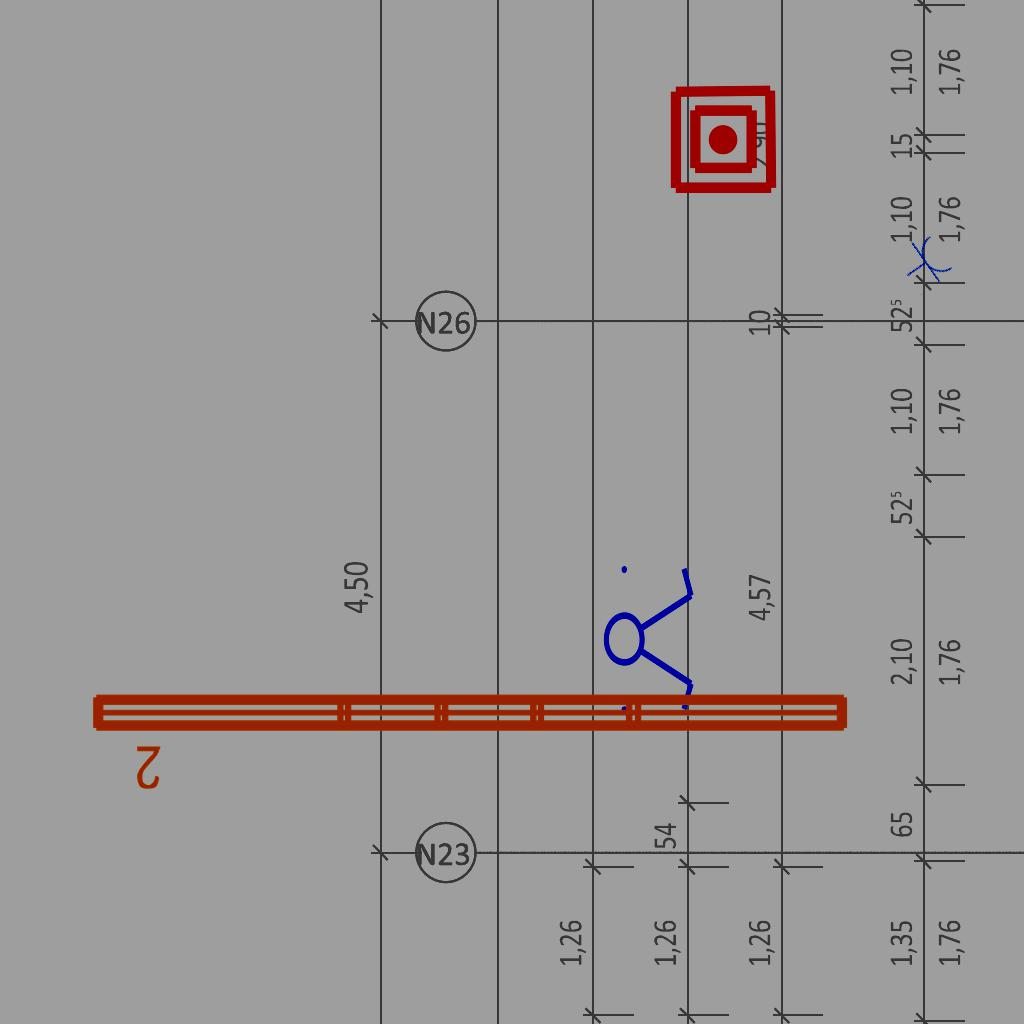Ambulanz_Pendelleuchte_LED: (84, 682, 858, 794)
NAM-Nichtautomatischer_Melder: (667, 83, 780, 196)
Schukosteckdose_einfach: (893, 230, 957, 297)
Serienschalter: (602, 554, 698, 722)
